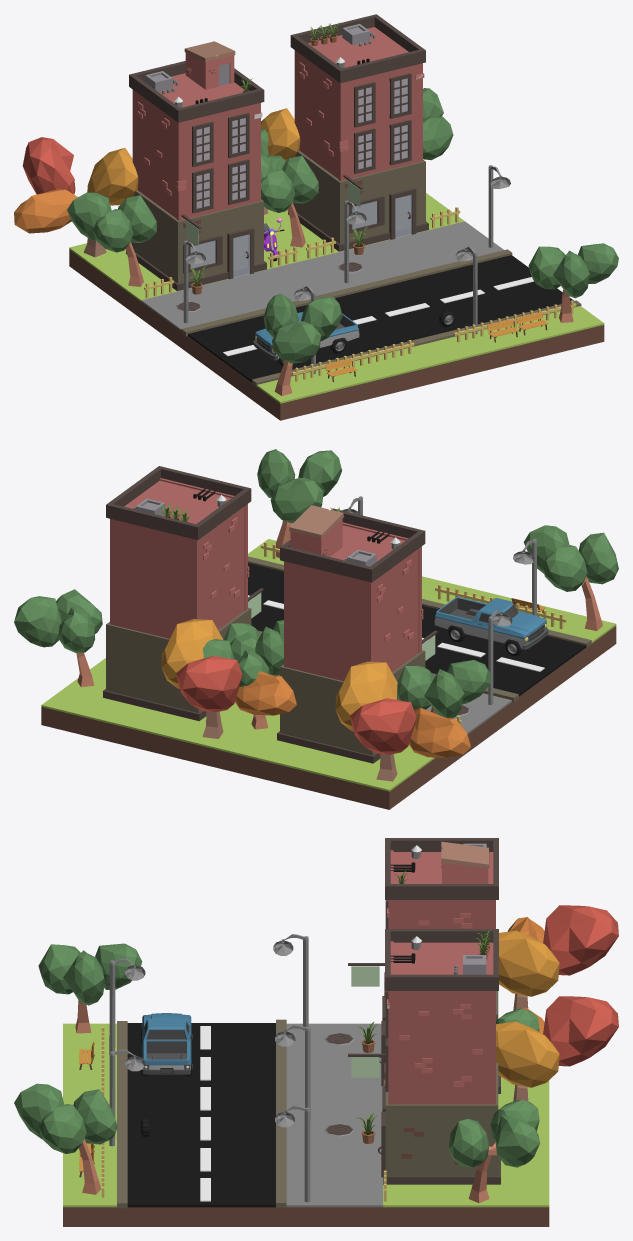
File: townhouse.glb
The picture shows the model from 3 angles, top to bottom: view 1: azimuth 30°, elevation 25°; view 2: azimuth 150°, elevation 25°; view 3: azimuth 270°, elevation 25°; orthographic projection. The views are drawn at different scales.
Visible parts, largest first — view 1: Cube.014, Cube.025, Cube.001, Cube.050, Cube.024, Cube.038, Cube.015, Cube.004, Cube.068, Cube.006, Cube.003, Cube (+36 smaller); view 2: Cube.050, Cube, Cube.025, Cube.065, Cube.001, Cube.066, Cube.002, Cube.015, Cube.003, Cube.012, Cube.004, Cube.057 (+21 smaller); view 3: Cube.050, Cube.014, Cube.003, Cube.010, Cube.068, Cube.025, Cube.065, Cube.006, Cube.015, Cube.063, Cube.066, Cube.057 (+26 smaller).
Boxes of the visible parts, left/top/right/bottom form: Cube.014: left=350, top=255, right=573, bottom=340; Cube.025: left=14, top=137, right=138, bottom=257; Cube.001: left=69, top=249, right=442, bottom=420; Cube.050: left=294, top=27, right=408, bottom=178; Cube.024: left=176, top=103, right=260, bottom=220; Cube.038: left=338, top=63, right=422, bottom=181; Cube.015: left=293, top=150, right=425, bottom=243; Cube.004: left=131, top=190, right=263, bottom=283; Cube.068: left=303, top=221, right=503, bottom=289; Cube.006: left=141, top=261, right=341, bottom=330; Cube.003: left=188, top=294, right=411, bottom=382; Cube: left=132, top=73, right=244, bottom=217; Cube.050: left=110, top=480, right=244, bottom=638; Cube: left=284, top=525, right=418, bottom=681; Cube.025: left=335, top=661, right=470, bottom=781; Cube.065: left=161, top=619, right=296, bottom=738; Cube.001: left=215, top=626, right=616, bottom=809; Cube.066: left=41, top=658, right=253, bottom=748; Cube.002: left=215, top=714, right=435, bottom=791; Cube.015: left=106, top=607, right=251, bottom=712; Cube.003: left=422, top=605, right=586, bottom=696; Cube.012: left=523, top=525, right=618, bottom=630; Cube.004: left=280, top=650, right=425, bottom=755; Cube.057: left=14, top=589, right=102, bottom=687; Cube.050: left=393, top=942, right=495, bottom=1104; Cube.014: left=127, top=1114, right=275, bottom=1207; Cube.003: left=127, top=1023, right=275, bottom=1113; Cube.010: left=63, top=1207, right=549, bottom=1226; Cube.068: left=286, top=1114, right=383, bottom=1207; Cube.025: left=499, top=905, right=618, bottom=1010; Cube.065: left=496, top=996, right=618, bottom=1101; Cube.006: left=286, top=1023, right=383, bottom=1114; Cube.015: left=385, top=1063, right=498, bottom=1176; Cube.063: left=14, top=1083, right=117, bottom=1194; Cube.066: left=383, top=1114, right=549, bottom=1207; Cube.057: left=448, top=1099, right=539, bottom=1203.
Size of the model in its own units: 28.38 by 14.14 by 30.58.
Materials: 24 (3 with a texture image).
